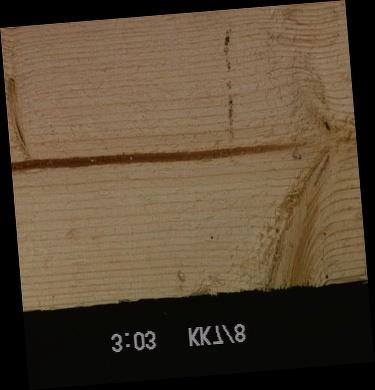small_knot: (318, 118, 335, 132)
